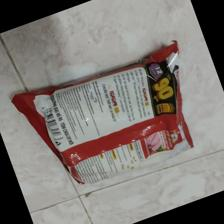Kokomi: (7, 38, 199, 193)
